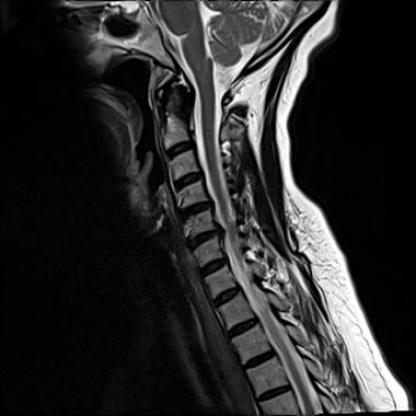Osteophytesrotation: (176, 201, 213, 220), (186, 230, 222, 249)
